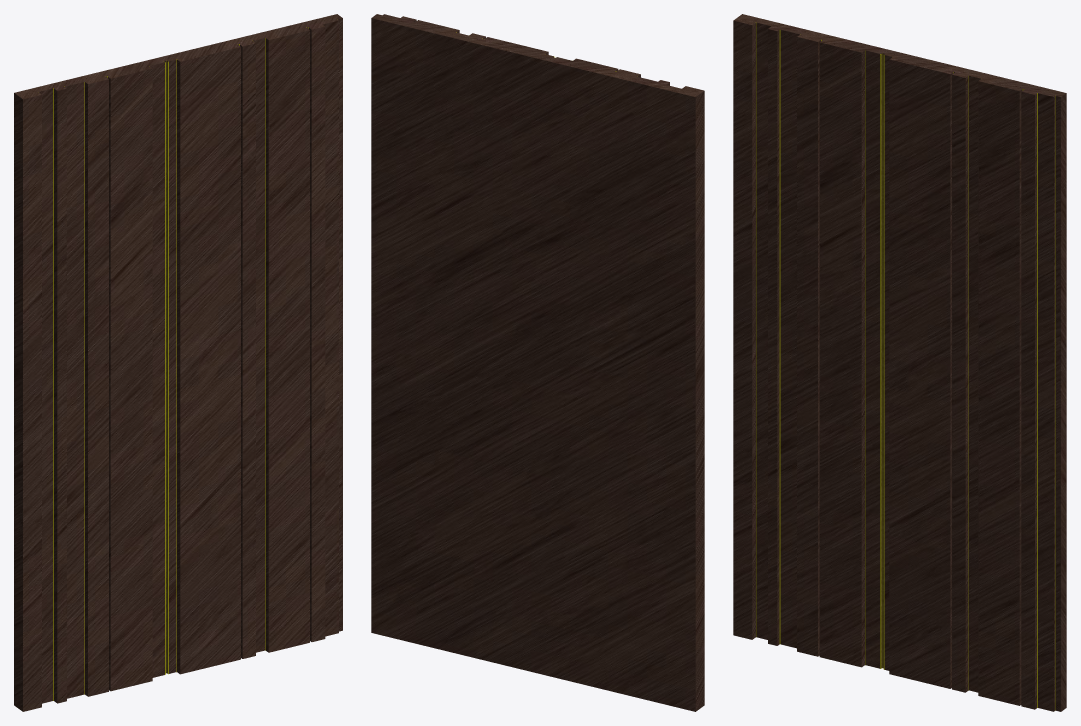
File: VachDung.FBX
3 renders of one model, left to right at view 1: azimuth 30°, elevation 25°; view 2: azimuth 150°, elevation 25°; view 3: azimuth 330°, elevation 25°, orthographic.
Visible parts, largest first — view 1: VachDung; view 2: VachDung; view 3: VachDung.
Boxes of the visible parts, bbox=[...] form: VachDung: bbox=[14, 14, 342, 711]; VachDung: bbox=[371, 14, 704, 711]; VachDung: bbox=[733, 14, 1066, 711].
Size of the model in its own units: 2760 by 5000 by 144.
2 materials, 1 textured.
